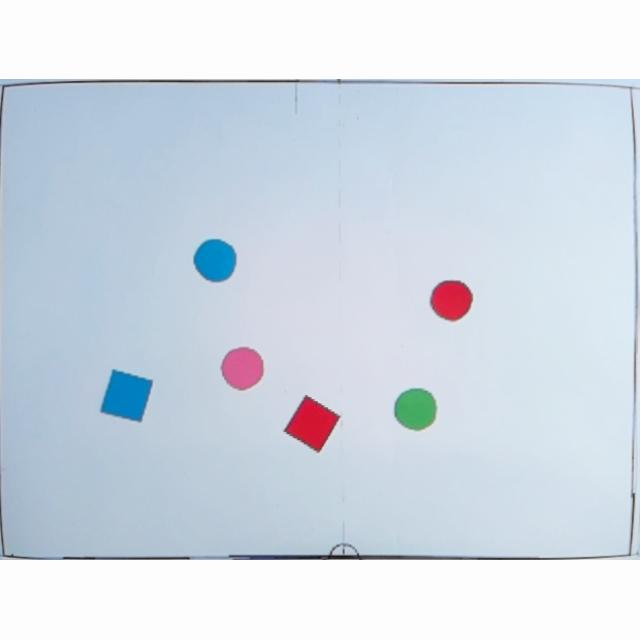blueCircle: (192, 240, 236, 284)
blueSquare: (100, 370, 154, 424)
greenCircle: (394, 389, 438, 433)
pinkCircle: (220, 349, 264, 393)
redCircle: (428, 280, 472, 324)
redSquare: (282, 396, 340, 454)
